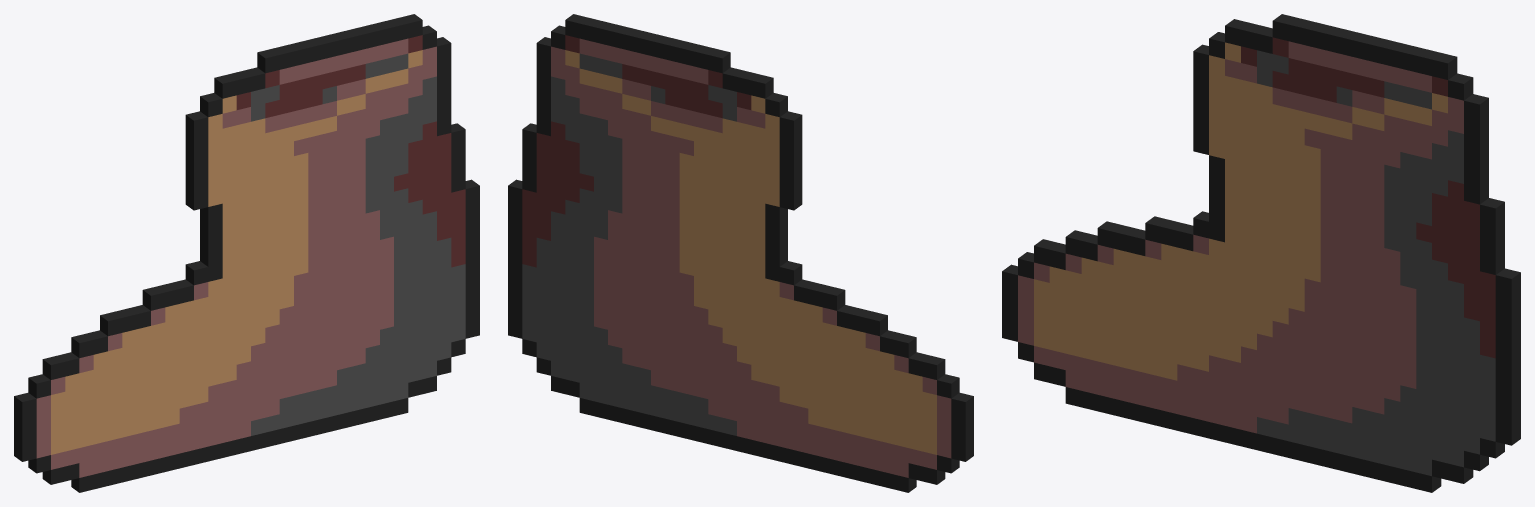
File: A_Shoes01.fbx
3 views of the same model, side by side, from view 1: azimuth 30°, elevation 25°; view 2: azimuth 150°, elevation 25°; view 3: azimuth 330°, elevation 25° (orthographic). The views are drawn at different scales.
Parts seen in each view (by area): view 1: Default; view 2: Default; view 3: Default.
Boxes of the visible parts, x1,y1,x2,y2 form: Default: (14,14,479,492); Default: (508,14,973,492); Default: (1002,14,1520,492).
Bounding box in the file's own units: 32 × 26 × 1.
1 material, 1 textured.
